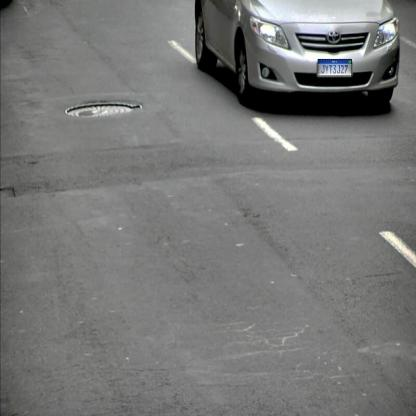PlacaM: (318, 59, 352, 76)
